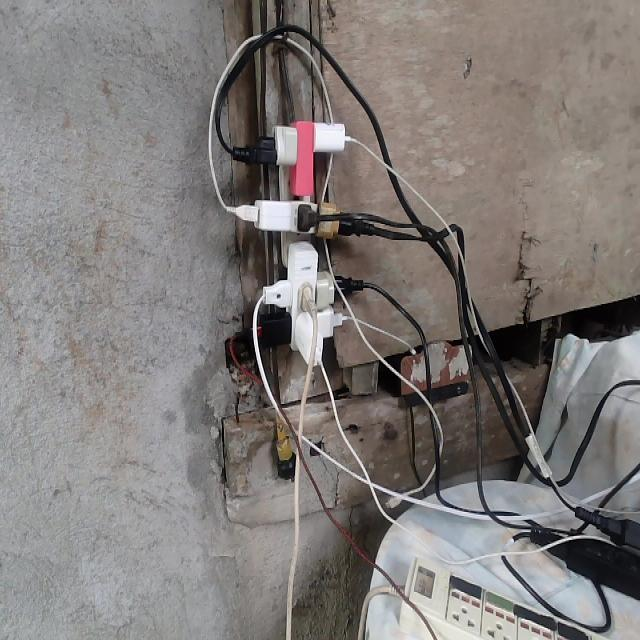-: (227, 122, 374, 366)
